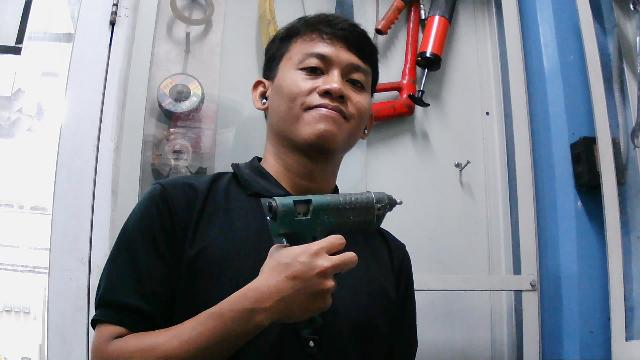gun_lem: (253, 187, 410, 288)
